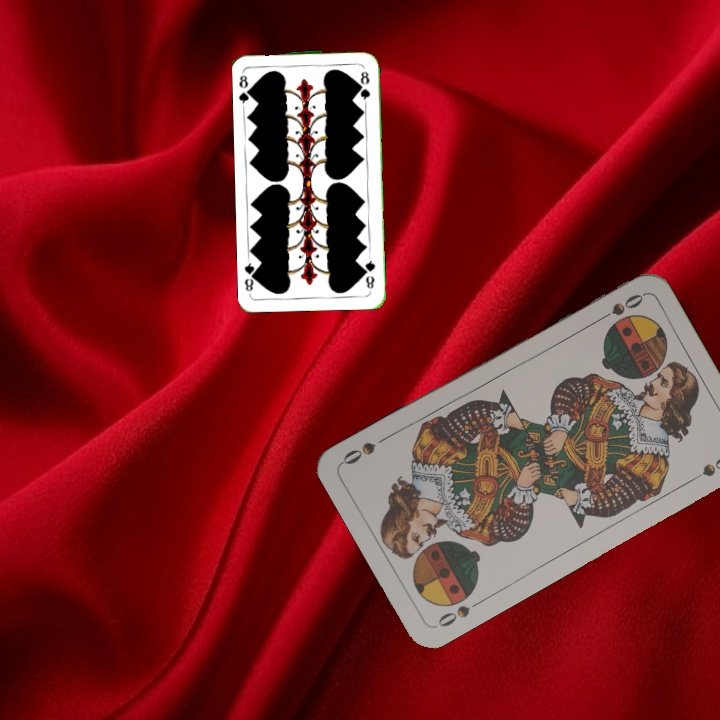G8: (235, 67, 255, 108), (361, 252, 377, 291)
SO: (592, 289, 646, 326), (433, 595, 486, 630)
